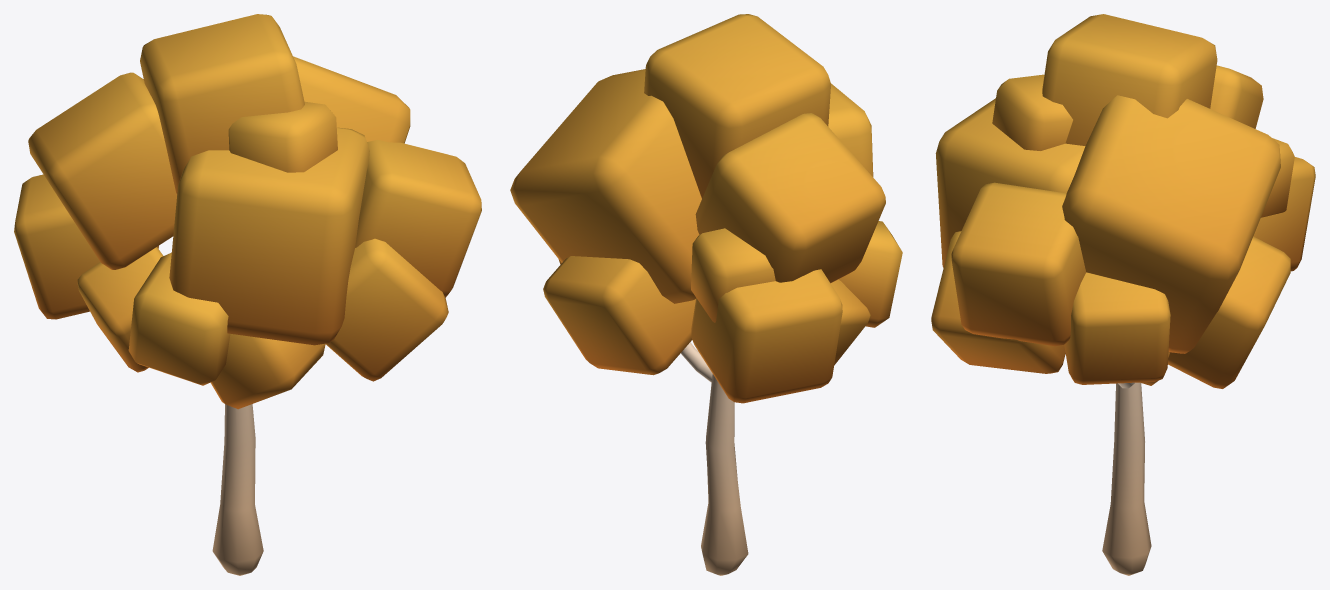
Rendered from Tree_2_E_Color5.fbx.
The picture shows the model from 3 angles, left to right: view 1: azimuth 30°, elevation 25°; view 2: azimuth 150°, elevation 25°; view 3: azimuth 270°, elevation 25°; orthographic projection.
Visible parts, largest first — view 1: Tree_2_E_Color5; view 2: Tree_2_E_Color5; view 3: Tree_2_E_Color5.
Boxes of the visible parts, <box> form: Tree_2_E_Color5: <box>14,14,481,575</box>; Tree_2_E_Color5: <box>510,14,902,575</box>; Tree_2_E_Color5: <box>931,14,1315,575</box>.
Bounding box in the file's own units: 6.05 × 8.79 × 5.68.
